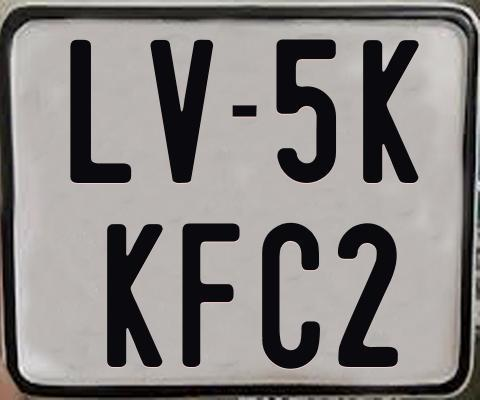2: (336, 222, 401, 370)
5: (274, 37, 334, 185)
C: (262, 222, 323, 373)
F: (182, 223, 244, 370)
K: (105, 224, 166, 372), (363, 39, 422, 188)
L: (67, 38, 132, 186)
V: (149, 37, 214, 182)
